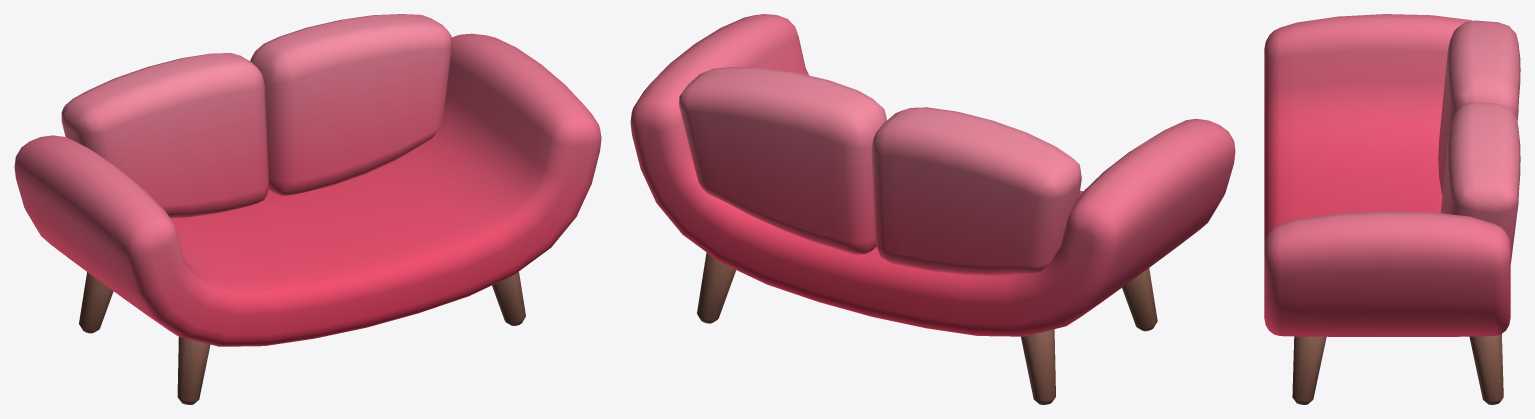
File: Couch_11.glb
3 views of the same model, side by side, from view 1: azimuth 30°, elevation 25°; view 2: azimuth 150°, elevation 25°; view 3: azimuth 270°, elevation 25° (orthographic). The views are drawn at different scales.
Parts seen in each view (by area): view 1: Couch_11; view 2: Couch_11; view 3: Couch_11.
Part boxes in pixels (x1,y1,x2,y2): Couch_11: [14, 14, 601, 404]; Couch_11: [630, 14, 1235, 404]; Couch_11: [1264, 14, 1520, 404].
Bounding box in the file's own units: 1.56 × 0.7706 × 0.7455.
1 material, 1 textured.
